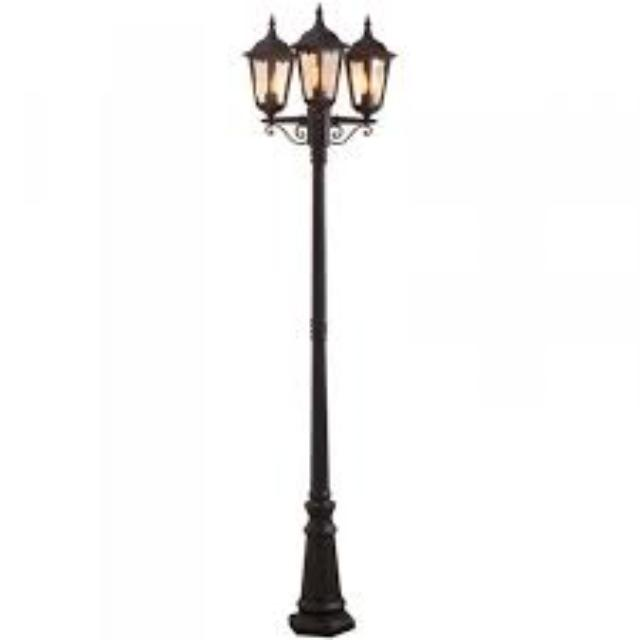Street-Lamp: (242, 5, 396, 640)
